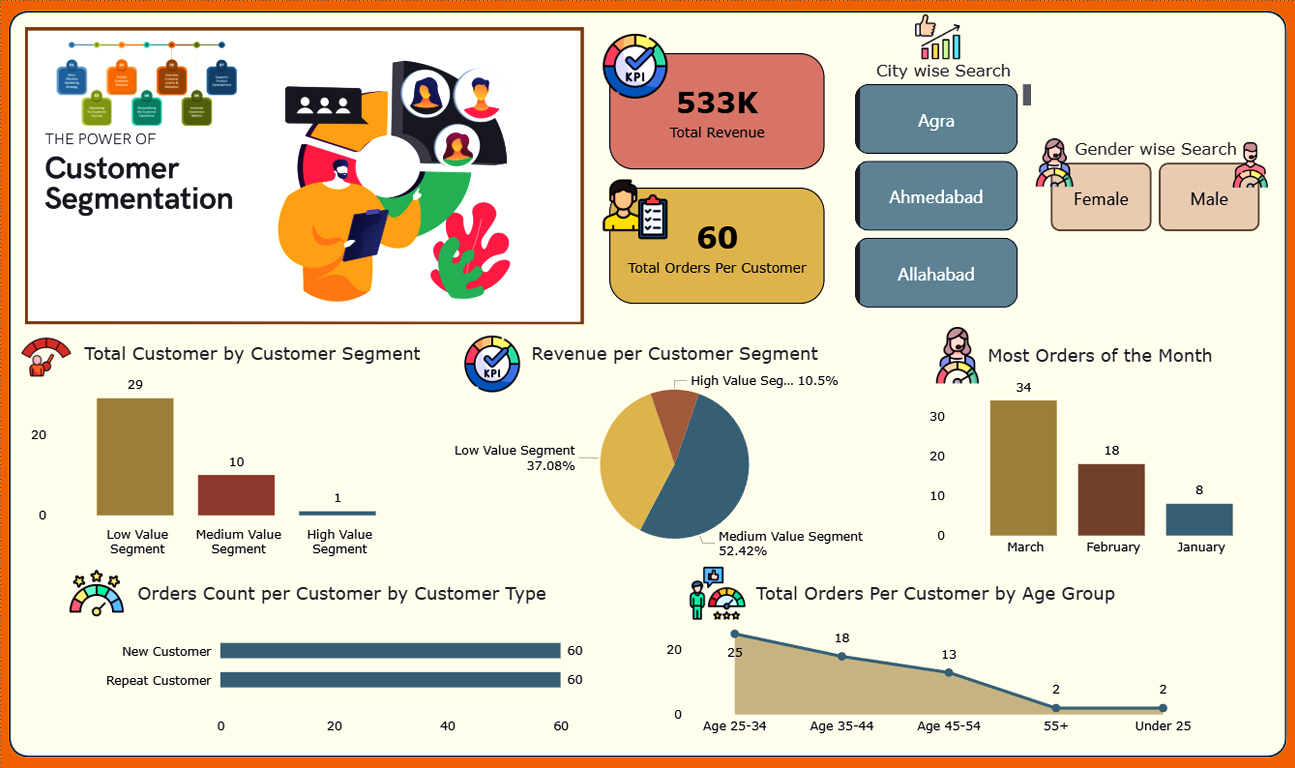

What the dashboard file says about the page in this screenshot:
{"tool":"powerbi","page":{"name":"Page 1","canvas":[1280,760],"ordinal":0},"visuals":[{"type":"image","box":[23.9,24.9,553.2,295.8],"z":0},{"type":"card","fields":{"Values":["Customers.Total Revenue"]},"box":[602.1,51.6,213.5,114.9],"z":1000},{"type":"card","fields":{"Values":["Customers.Total Orders Per Customer"]},"box":[602.1,184.7,213.5,114.9],"z":2000},{"type":"columnChart","fields":{"Category":["Customers.Customer Segment"],"Y":["Customers.Total Customer"]},"box":[23.9,337.9,396.3,220.2],"z":3000},{"type":"pieChart","title":"Revenue per Customer Segment","fields":{"Y":["Customers.Revenue per Customer Segment"],"Category":["Customers.Customer Segment"]},"box":[438.4,337.9,456.6,220.2],"z":4000},{"type":"columnChart","title":"Most Orders of the Month","fields":{"Category":["Orders.Order Month"],"Y":["Customers.Total Orders"]},"box":[913.1,339.8,349.4,218.2],"z":6000},{"type":"barChart","fields":{"Category":["Customers.Customer Type"],"Y":["Customers.Orders Count per Customer"]},"box":[86.1,575.3,502.5,159.8],"z":7000},{"type":"areaChart","fields":{"Category":["Customers.Age Group"],"Y":["Customers.Total Orders Per Customer"]},"box":[652.8,575.3,544.6,159.8],"z":8000},{"type":"advancedSlicerVisual","title":"City wise Search","fields":{"Values":["Customers.city"]},"box":[840.4,58.4,184.7,251.7],"z":8001},{"type":"advancedSlicerVisual","title":"Gender wise Search","fields":{"Values":["Customers.gender"]},"box":[1033.8,135.9,218.2,97.6],"z":8002},{"type":"image","box":[588.7,32.5,78.5,64.1],"z":8003},{"type":"image","box":[588.7,174.2,78.5,64.1],"z":8004},{"type":"image","box":[454.7,331.2,63.2,55.5],"z":8005},{"type":"image","box":[13.4,324.5,63.2,55.5],"z":8006},{"type":"image","box":[915.1,322.6,63.2,55.5],"z":8007},{"type":"image","box":[677.7,558,63.2,55.5],"z":8008},{"type":"image","box":[63.2,558,63.2,55.5],"z":8009},{"type":"image","box":[1208,139.7,56.5,45],"z":8010},{"type":"image","box":[1013.7,135.9,57.4,47.9],"z":8011},{"type":"image","box":[896.9,12.4,60.3,45.9],"z":8012},{"type":"shape","box":[7.5,9.2,1265,739.2],"z":8013}]}

Visuals, with their boxes in screenshot pixels (x1, y1, x2, y2), scaled from the page's 1280x760 canvas onto the 1295x768 screenshot:
image: 24, 25, 584, 324
card - Customers.Total Revenue: 609, 52, 825, 168
card - Customers.Total Orders Per Customer: 609, 187, 825, 303
columnChart - Customers.Customer Segment x Customers.Total Customer: 24, 341, 425, 564
"Revenue per Customer Segment" pieChart: 444, 341, 905, 564
"Most Orders of the Month" columnChart: 924, 343, 1277, 564
barChart - Customers.Customer Type x Customers.Orders Count per Customer: 87, 581, 595, 743
areaChart - Customers.Age Group x Customers.Total Orders Per Customer: 660, 581, 1211, 743
"City wise Search" advancedSlicerVisual: 850, 59, 1037, 313
"Gender wise Search" advancedSlicerVisual: 1046, 137, 1267, 236
image: 596, 33, 675, 98
image: 596, 176, 675, 241
image: 460, 335, 524, 391
image: 14, 328, 77, 384
image: 926, 326, 990, 382
image: 686, 564, 750, 620
image: 64, 564, 128, 620
image: 1222, 141, 1279, 187
image: 1026, 137, 1084, 186
image: 907, 13, 968, 59
shape: 8, 9, 1287, 756
